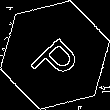P_NE: (24, 24, 86, 86)
